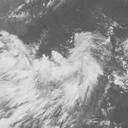cyclone: (5, 41, 92, 112)
